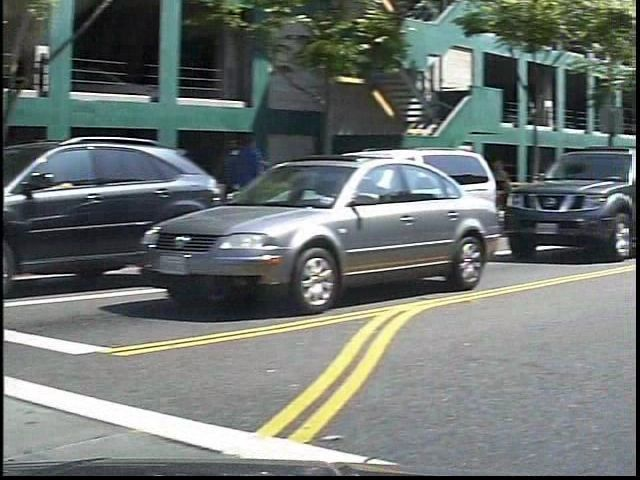person: (239, 127, 287, 243), (502, 156, 532, 229)
